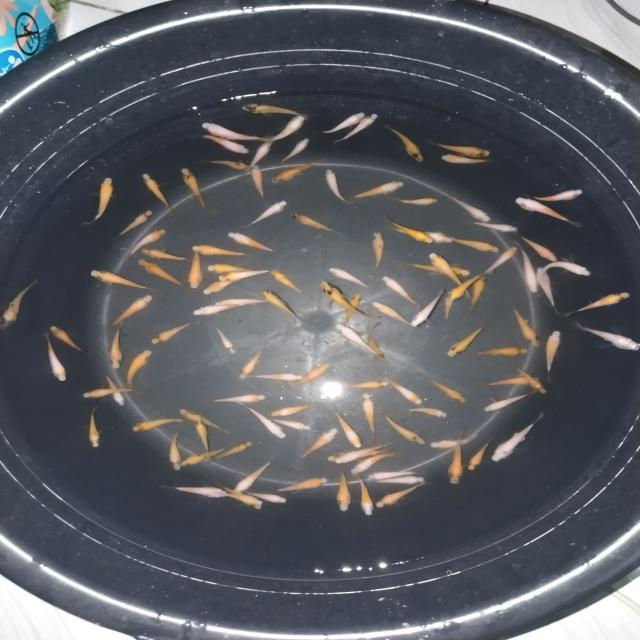nila: (490, 412, 542, 466), (70, 173, 119, 228), (334, 322, 392, 368), (512, 196, 587, 230), (560, 288, 633, 322), (320, 278, 378, 320), (196, 118, 276, 148), (0, 275, 40, 333), (84, 264, 158, 295), (569, 321, 640, 353), (102, 292, 156, 331), (262, 288, 316, 326), (140, 168, 180, 218), (291, 427, 341, 465), (236, 402, 285, 440), (380, 123, 427, 162), (37, 332, 69, 389), (378, 369, 424, 407), (310, 109, 370, 138), (442, 323, 488, 360), (509, 300, 543, 350), (134, 258, 184, 292), (332, 110, 379, 146), (234, 454, 276, 494), (532, 264, 562, 316), (421, 374, 468, 407), (381, 216, 436, 244), (380, 414, 428, 446), (444, 232, 508, 256), (342, 178, 403, 203), (268, 158, 322, 186), (514, 234, 564, 264), (180, 166, 210, 216), (193, 130, 254, 154), (445, 269, 488, 303), (423, 138, 496, 158), (382, 274, 422, 310), (409, 289, 444, 330), (288, 211, 345, 236), (125, 228, 169, 260), (402, 259, 476, 278), (224, 228, 278, 254), (332, 442, 388, 467), (510, 362, 550, 397), (512, 240, 537, 296), (164, 481, 227, 503), (125, 347, 158, 389), (286, 360, 332, 390), (262, 114, 308, 144), (326, 264, 375, 292), (220, 481, 264, 512), (332, 406, 363, 450), (372, 302, 419, 331), (529, 260, 597, 280), (235, 102, 310, 120), (444, 194, 492, 222), (114, 208, 156, 240), (431, 250, 468, 286), (74, 383, 140, 403), (174, 445, 224, 471), (267, 264, 305, 298), (480, 392, 536, 415), (447, 428, 468, 488), (246, 198, 288, 228), (190, 238, 250, 259), (179, 407, 229, 432), (376, 482, 424, 508), (237, 342, 268, 382), (322, 168, 354, 206), (427, 429, 482, 451), (350, 452, 400, 476), (483, 244, 518, 278), (388, 226, 458, 243), (51, 321, 84, 357), (464, 272, 488, 320), (200, 272, 248, 296), (190, 298, 247, 318), (213, 266, 284, 282), (148, 320, 195, 344), (460, 218, 526, 235), (272, 475, 334, 493), (352, 474, 376, 520), (542, 328, 565, 376), (267, 399, 322, 419), (462, 344, 530, 360), (208, 322, 240, 356), (466, 437, 496, 473), (278, 136, 318, 163), (128, 414, 186, 432), (207, 294, 281, 308), (212, 439, 257, 462), (324, 448, 388, 464), (523, 186, 587, 202), (359, 392, 379, 443), (200, 157, 260, 174), (105, 322, 126, 370), (142, 246, 192, 266), (200, 390, 266, 405), (214, 489, 268, 507), (341, 290, 366, 328), (187, 243, 206, 293), (477, 374, 540, 389), (102, 372, 128, 407), (364, 233, 388, 270), (334, 470, 352, 516), (167, 431, 186, 474), (250, 162, 268, 206), (268, 416, 316, 432), (368, 324, 388, 362), (203, 262, 257, 276), (405, 406, 452, 422), (84, 408, 100, 452), (436, 290, 456, 324), (248, 488, 288, 504), (343, 378, 392, 391), (369, 476, 431, 486), (438, 154, 496, 164), (193, 414, 210, 448), (238, 373, 310, 381), (389, 195, 441, 206), (368, 471, 420, 481)
